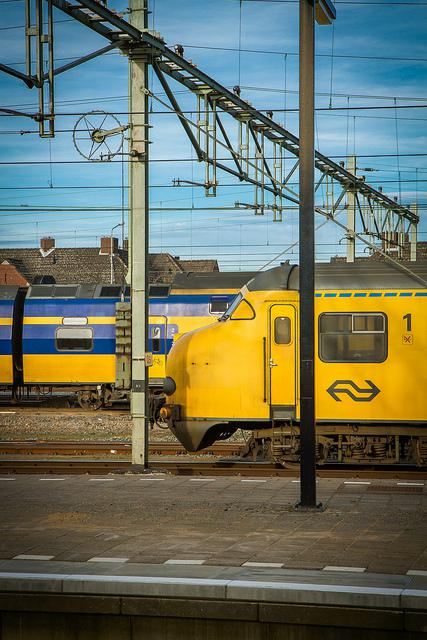Train: (166, 290, 427, 463), (5, 272, 265, 433)
